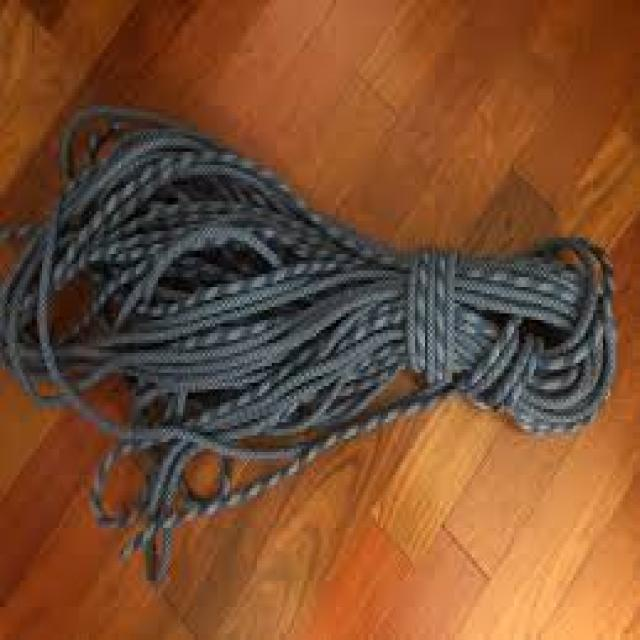rope: (0, 110, 615, 547)
